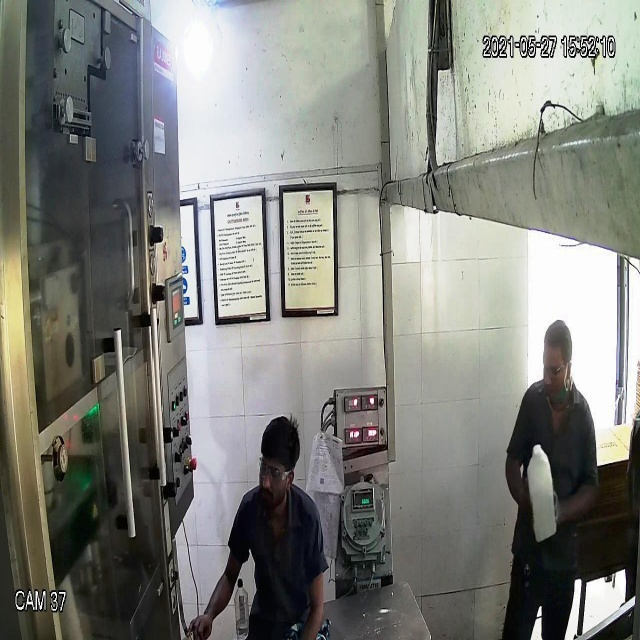Gafas: (255, 452, 296, 484)
